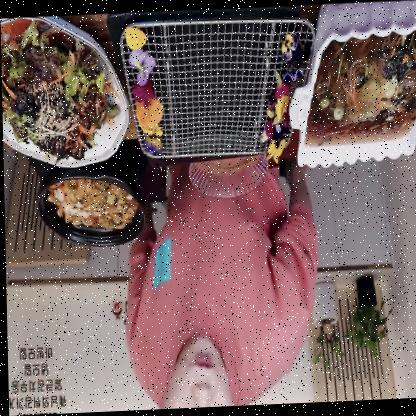streamer: (123, 160, 320, 412)
